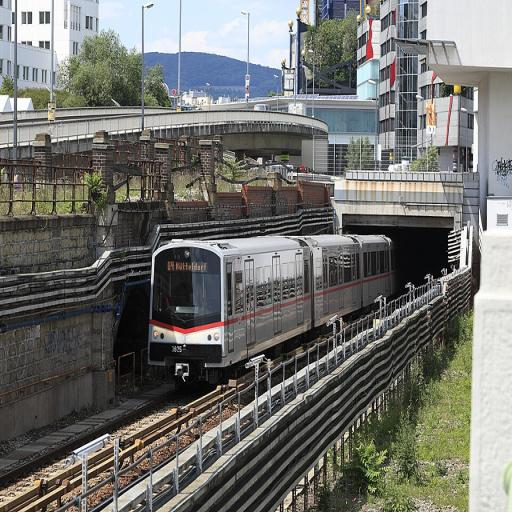V-Wagen: (140, 232, 396, 386)
